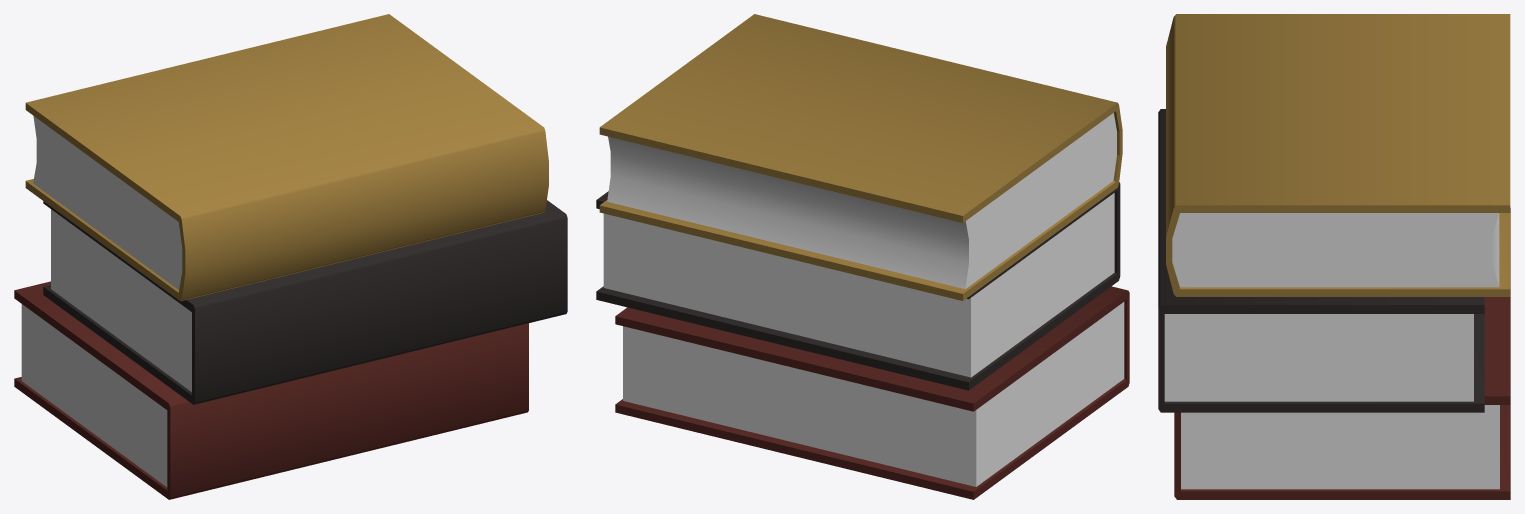
File: 069_books_horizontal.glb
3 views of the same model, side by side, from view 1: azimuth 30°, elevation 25°; view 2: azimuth 150°, elevation 25°; view 3: azimuth 270°, elevation 25° (orthographic). The views are drawn at different scales.
Parts seen in each view (by area): view 1: Plane.008, Plane.011, Plane.007; view 2: Plane.008, Plane.007, Plane.011; view 3: Plane.008, Plane.011, Plane.007.
Boxes of the visible parts, bbox=[...] form: Plane.008: bbox=[25, 14, 548, 301]; Plane.011: bbox=[43, 200, 567, 404]; Plane.007: bbox=[14, 281, 528, 499]; Plane.008: bbox=[599, 14, 1122, 300]; Plane.007: bbox=[615, 286, 1129, 499]; Plane.011: bbox=[596, 182, 1120, 390]; Plane.008: bbox=[1166, 14, 1510, 296]; Plane.011: bbox=[1158, 109, 1484, 412]; Plane.007: bbox=[1174, 208, 1510, 499].
Size of the model in its own units: 0.7295 by 0.5031 by 0.5302.
